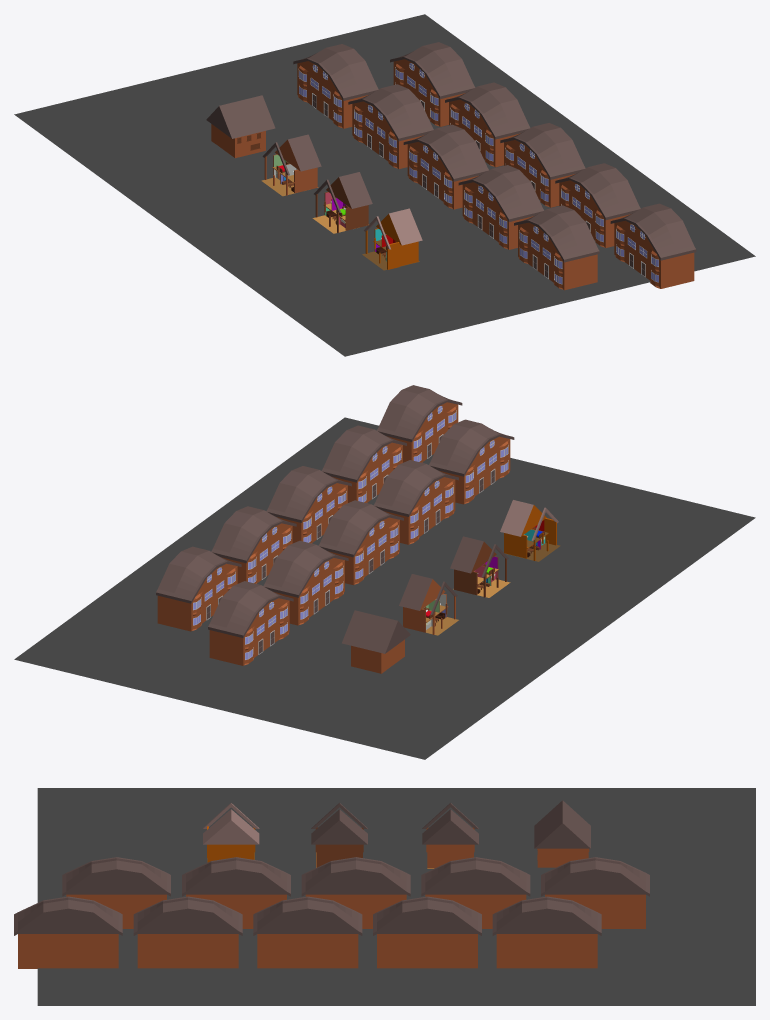
Rendered from Environment2.fbx.
3 renders of one model, top to bottom at view 1: azimuth 30°, elevation 25°; view 2: azimuth 150°, elevation 25°; view 3: azimuth 270°, elevation 25°, orthographic. The views are drawn at different scales.
Visible parts, largest first — view 1: Plane.001, Cube.081, Cube.098, Plane, Cube.012, Cube.013, Cube.050, Cube.059, Cube, Cube.006, Cube.054, Cube.055; view 2: Plane.001, Cube.081, Cube.098, Plane, Cube.012, Cube, Cube.013, Cube.059, Cube.050, Cube.054, Cube.006, Cube.055; view 3: Plane.001, Cube.098, Cube.081, Plane, Cube.012, Cube.013, Cube.050, Cube.059, Cube.006, Cube, Cube.054, Cube.055.
Boxes of the visible parts, left/top/right/bottom form: Plane.001: left=14, top=14, right=755, bottom=356; Cube.081: left=293, top=44, right=599, bottom=290; Cube.098: left=390, top=42, right=696, bottom=288; Plane: left=213, top=144, right=419, bottom=270; Cube.012: left=206, top=95, right=275, bottom=138; Cube.013: left=275, top=134, right=321, bottom=171; Cube.050: left=326, top=172, right=372, bottom=208; Cube.059: left=376, top=208, right=422, bottom=245; Cube: left=211, top=124, right=265, bottom=158; Cube.006: left=272, top=154, right=317, bottom=193; Cube.054: left=323, top=192, right=368, bottom=230; Cube.055: left=373, top=228, right=418, bottom=266; Plane.001: left=14, top=417, right=755, bottom=759; Cube.081: left=208, top=419, right=514, bottom=665; Cube.098: left=156, top=385, right=462, bottom=631; Plane: left=386, top=543, right=560, bottom=671; Cube.012: left=342, top=610, right=410, bottom=653; Cube: left=351, top=639, right=404, bottom=673; Cube.013: left=399, top=574, right=445, bottom=610; Cube.059: left=500, top=500, right=546, bottom=536; Cube.050: left=450, top=536, right=496, bottom=573; Cube.054: left=454, top=556, right=499, bottom=595; Cube.006: left=403, top=593, right=448, bottom=632; Cube.055: left=504, top=520, right=548, bottom=558; Plane.001: left=37, top=788, right=755, bottom=1005; Cube.098: left=14, top=896, right=601, bottom=968; Cube.081: left=62, top=857, right=649, bottom=928; Plane: left=207, top=849, right=555, bottom=868; Cube.012: left=534, top=800, right=590, bottom=848; Cube.013: left=422, top=809, right=478, bottom=844; Cube.050: left=311, top=809, right=367, bottom=844; Cube.059: left=203, top=809, right=259, bottom=844; Cube.006: left=427, top=844, right=473, bottom=868; Cube: left=537, top=848, right=589, bottom=867; Cube.054: left=316, top=844, right=362, bottom=867; Cube.055: left=207, top=844, right=254, bottom=862.
Size of the model in its own units: 51160 by 6614 by 73696.
